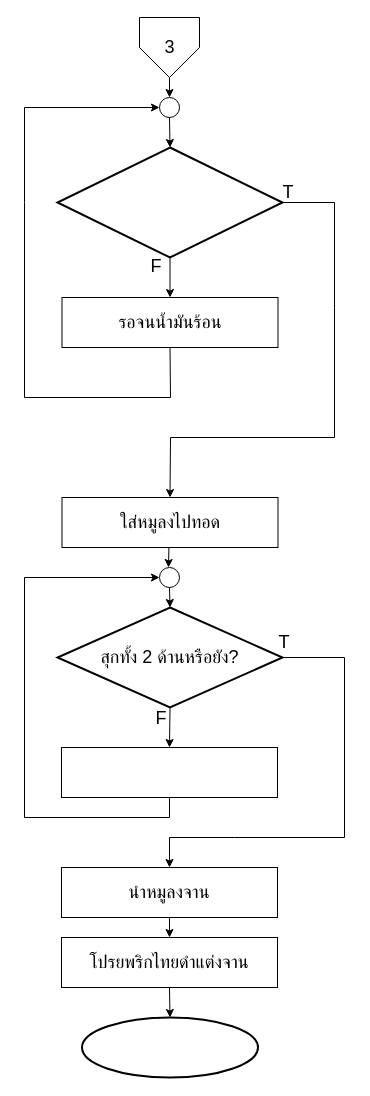
The diagram is 370 pixels wide and 1096 high, and some of its shapes have lost their labels. The box of each missing label's shape, as (x1, y1, x2, y2) in pixels:
Stop: (80, 1016, 258, 1078)
น้ำมันร้อนหรือยัง?: (56, 146, 283, 258)
รอจนสุกทั้ง 2 ด้าน: (60, 746, 278, 798)
